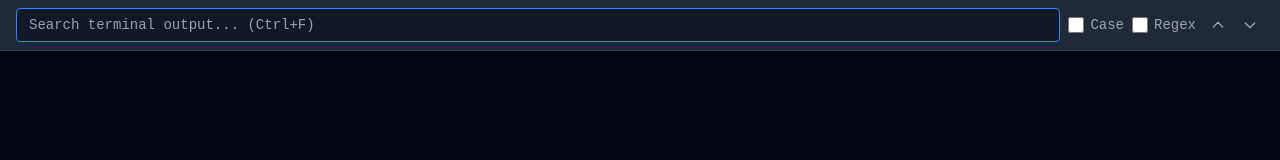
Test case: SearchBar › Match Counter › should display match count when query exists
The width and height of the screenshot is (1280, 160).
Step 1. Type "test" into the field with placeholder "Search terminal output... (Ctrl+F)" → (538, 25), box x1=16 y1=8 x2=1060 y2=42
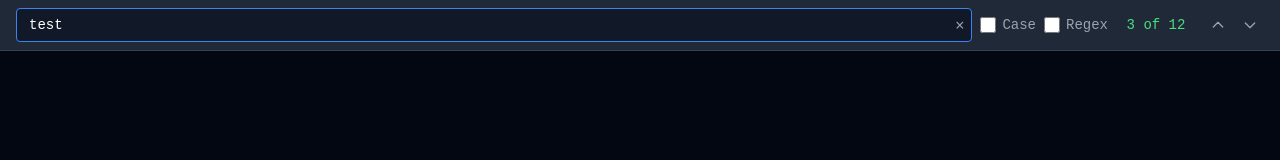
Expected: the text "3 of 12" is shown, x1=1127 y1=17 x2=1185 y2=33
